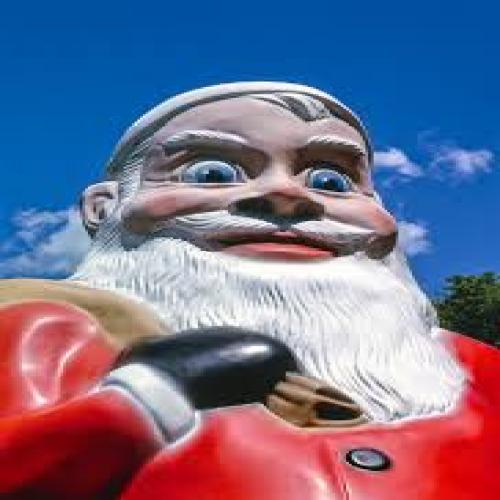Santa: (0, 78, 500, 500)
